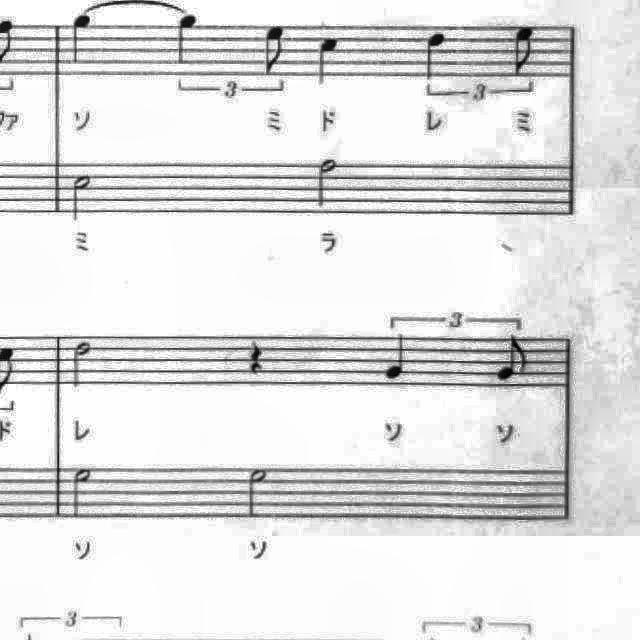Eighth-note: (256, 17, 296, 79), (490, 330, 532, 386), (506, 20, 544, 81)
Half-note: (238, 462, 276, 524), (64, 462, 100, 526), (65, 167, 99, 226), (311, 152, 344, 212), (66, 336, 98, 392)
Quarter-note: (309, 31, 347, 94), (168, 8, 206, 70), (63, 8, 101, 70), (417, 24, 453, 86), (378, 328, 414, 386)
Quarter-rest: (243, 332, 273, 380)
